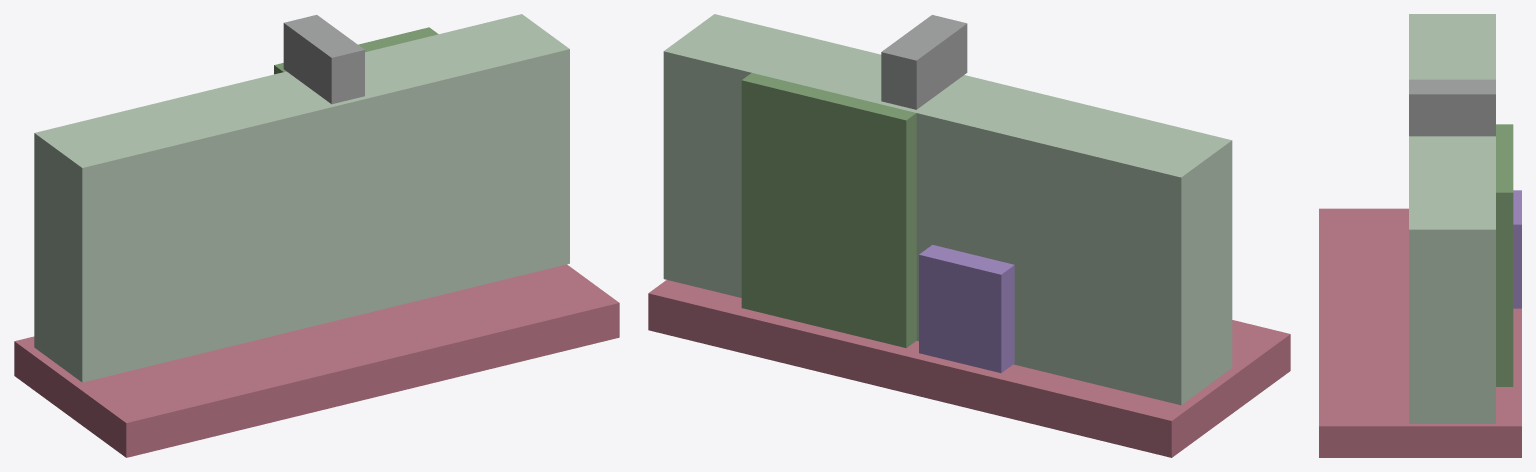
3 views of the same model, side by side, from view 1: azimuth 30°, elevation 25°; view 2: azimuth 150°, elevation 25°; view 3: azimuth 270°, elevation 25° (orthographic). The views are drawn at different scales.
Visible parts, largest first — view 1: world; view 2: world; view 3: world.
Part boxes in pixels (left/top/right/bottom): world: left=14, top=14, right=619, bottom=457; world: left=648, top=14, right=1290, bottom=457; world: left=1319, top=14, right=1521, bottom=457.
Bounding box in the file's own units: 8.9 × 5.2 × 3.5.
